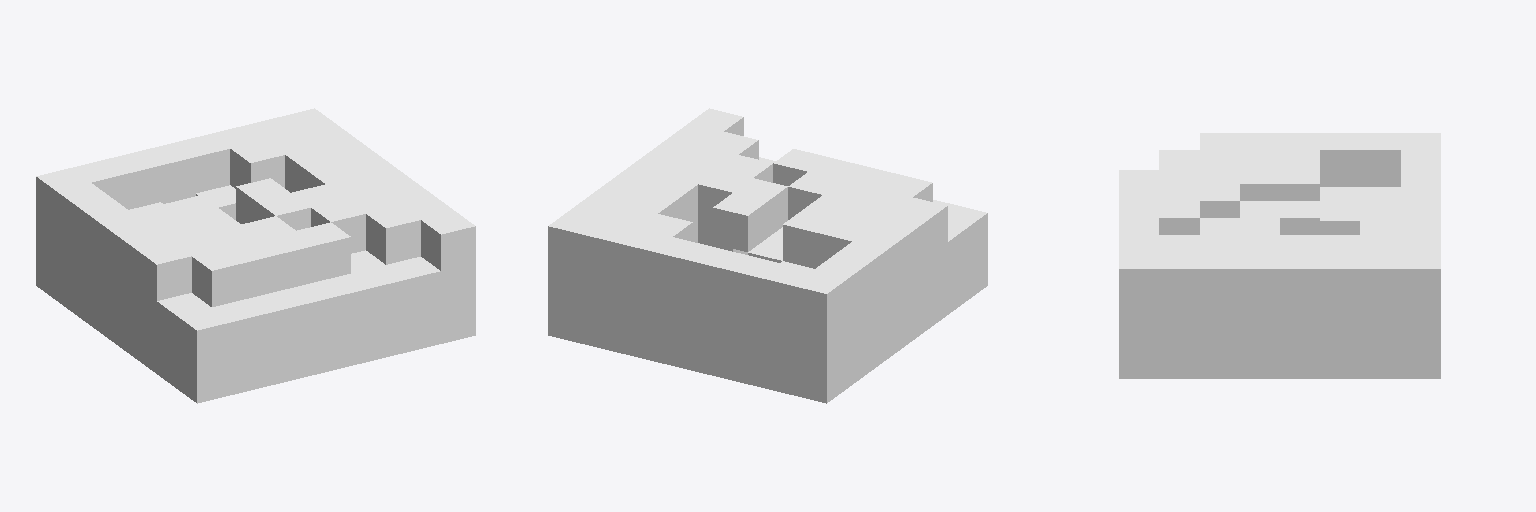
Rendered from Lava10.obj.
3 views of the same model, side by side, from view 1: azimuth 30°, elevation 25°; view 2: azimuth 150°, elevation 25°; view 3: azimuth 270°, elevation 25° (orthographic).
Visible parts, largest first — view 1: object 1; view 2: object 1; view 3: object 1.
Boxes of the visible parts, x1=… form: object 1: x1=36, y1=108, x2=475, y2=403; object 1: x1=548, y1=108, x2=987, y2=403; object 1: x1=1119, y1=133, x2=1440, y2=378.
Size of the model in its own units: 0.8 by 0.3 by 0.8.